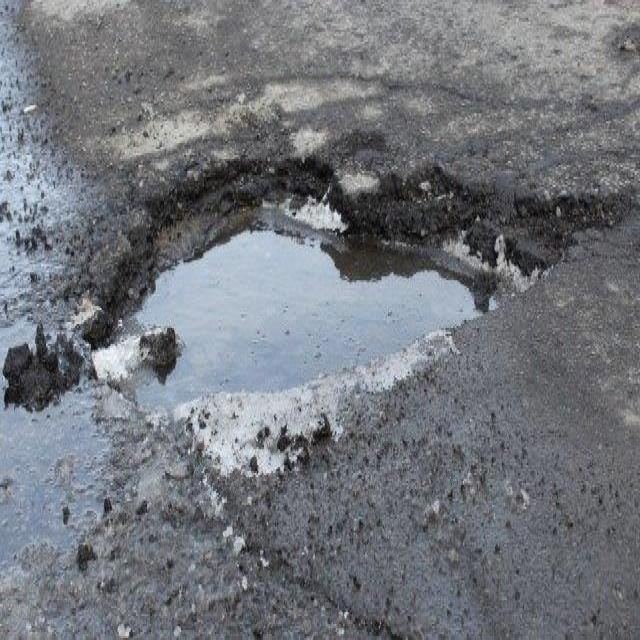jalan retak: (153, 413, 428, 639), (177, 47, 526, 148)
lubang: (74, 127, 620, 463)
